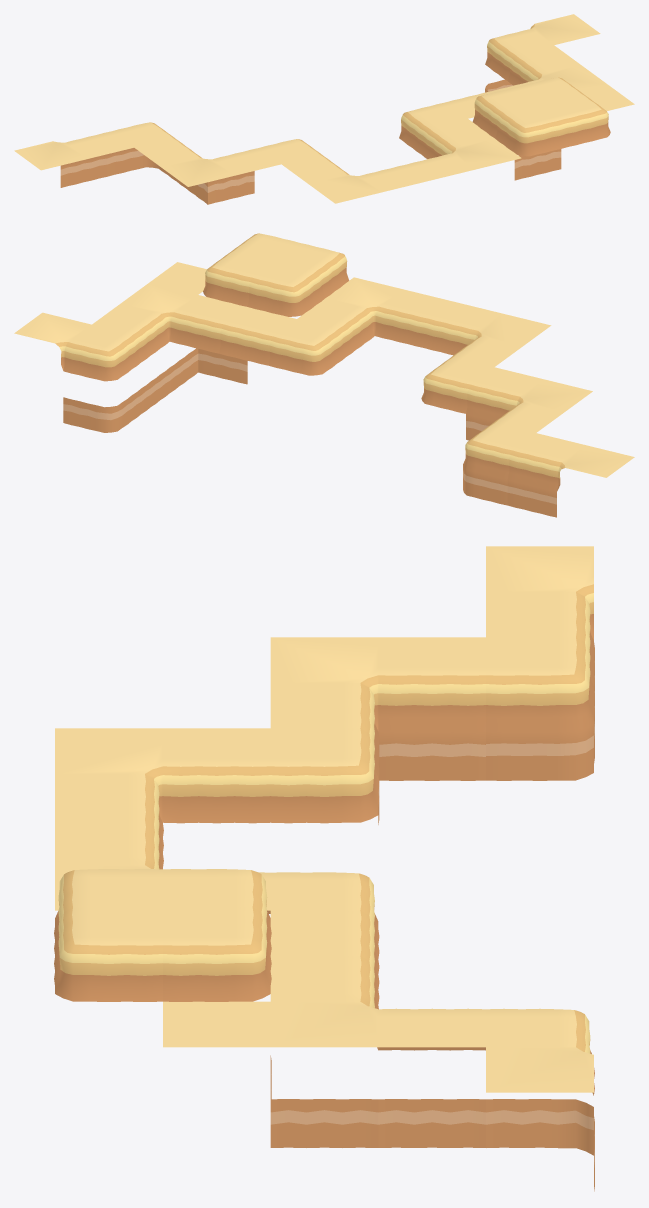
Rendered from NoonSandBlocks.glb.
3 renders of one model, top to bottom at view 1: azimuth 30°, elevation 25°; view 2: azimuth 150°, elevation 25°; view 3: azimuth 270°, elevation 25°, orthographic. The views are drawn at different scales.
Visible parts, largest first — view 1: U-Shaped Sand, Sand Island, Long Inner Edge Sand Block, Inner Edge Sand Block, Long Edge Sand Block, Long Outer Edge Sand Block, Outer Edge Sand Block, Isolated Sand Block, Long Isolated Sand Block, Under Inner Edge Sand Block, Flat Sand Block, Edge Sand Block; view 2: U-Shaped Sand, Sand Island, Inner Edge Sand Block, Long Inner Edge Sand Block, Long Edge Sand Block, Long Outer Edge Sand Block, Outer Edge Sand Block, Edge Sand Block, Under Outer Edge Sand Block, Under Inner Edge Sand Block, Isolated Sand Block, Long Isolated Sand Block (+2 smaller); view 3: U-Shaped Sand, Sand Island, Long Inner Edge Sand Block, Long Outer Edge Sand Block, Inner Edge Sand Block, Under Inner Edge Sand Block, Under Outer Edge Sand Block, Under Edge Sand Block, Long Isolated Sand Block, Long Edge Sand Block, Edge Sand Block, Flat Sand Block (+2 smaller).
Boxes of the visible parts, bbox=[...] form: U-Shaped Sand: bbox=[259, 102, 521, 203]; Sand Island: bbox=[472, 77, 610, 156]; Long Inner Edge Sand Block: bbox=[134, 138, 280, 204]; Inner Edge Sand Block: bbox=[493, 45, 607, 91]; Long Edge Sand Block: bbox=[60, 131, 133, 187]; Long Outer Edge Sand Block: bbox=[107, 122, 180, 184]; Outer Edge Sand Block: bbox=[485, 29, 553, 80]; Isolated Sand Block: bbox=[530, 14, 600, 44]; Long Isolated Sand Block: bbox=[14, 141, 86, 170]; Under Inner Edge Sand Block: bbox=[514, 149, 561, 180]; Flat Sand Block: bbox=[580, 84, 634, 110]; Edge Sand Block: bbox=[446, 91, 493, 118]; U-Shaped Sand: bbox=[268, 277, 551, 413]; Sand Island: bbox=[203, 233, 349, 316]; Inner Edge Sand Block: bbox=[92, 283, 246, 362]; Long Inner Edge Sand Block: bbox=[466, 367, 592, 440]; Long Edge Sand Block: bbox=[507, 433, 585, 517]; Long Outer Edge Sand Block: bbox=[463, 423, 535, 505]; Outer Edge Sand Block: bbox=[63, 324, 140, 381]; Edge Sand Block: bbox=[219, 307, 296, 365]; Under Outer Edge Sand Block: bbox=[63, 388, 141, 432]; Under Inner Edge Sand Block: bbox=[169, 348, 247, 392]; Isolated Sand Block: bbox=[14, 312, 91, 370]; Long Isolated Sand Block: bbox=[557, 445, 634, 490]; U-Shaped Sand: bbox=[55, 728, 379, 958]; Sand Island: bbox=[54, 869, 271, 1001]; Long Inner Edge Sand Block: bbox=[270, 637, 485, 824]; Long Outer Edge Sand Block: bbox=[486, 637, 594, 780]; Inner Edge Sand Block: bbox=[270, 956, 485, 1050]; Under Inner Edge Sand Block: bbox=[270, 1055, 378, 1147]; Under Outer Edge Sand Block: bbox=[486, 1099, 594, 1191]; Under Edge Sand Block: bbox=[378, 1099, 485, 1147]; Long Isolated Sand Block: bbox=[486, 546, 593, 640]; Long Edge Sand Block: bbox=[486, 591, 594, 692]; Edge Sand Block: bbox=[270, 910, 379, 1003]; Flat Sand Block: bbox=[163, 1001, 270, 1047].
Size of the model in its own units: 24 by 4 by 10.04.
Materials: 1 (1 with a texture image).
